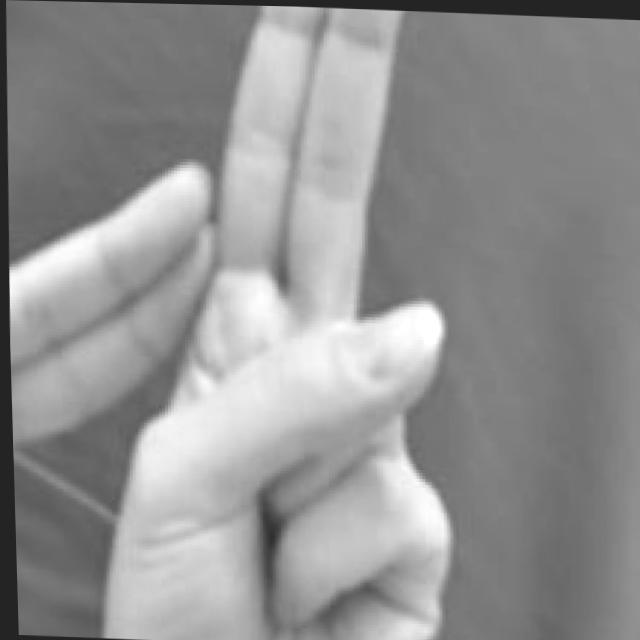K: (0, 0, 471, 640)
